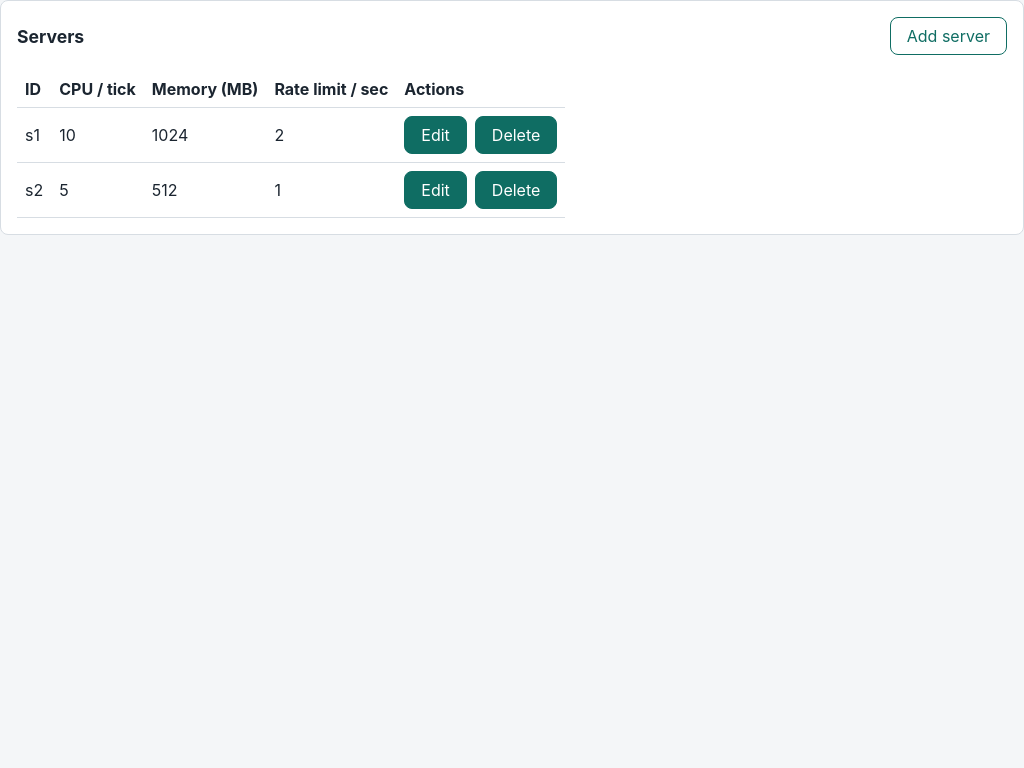
Test: ServerList › normalizes a real FastAPI 422 detail array through client.ts and displays both messages
The image size is (1024, 768).
Expected: the text "s1" is shown, [17, 108, 51, 162]
Click the button "Add server".
click(948, 36)  # box [890, 17, 1007, 55]
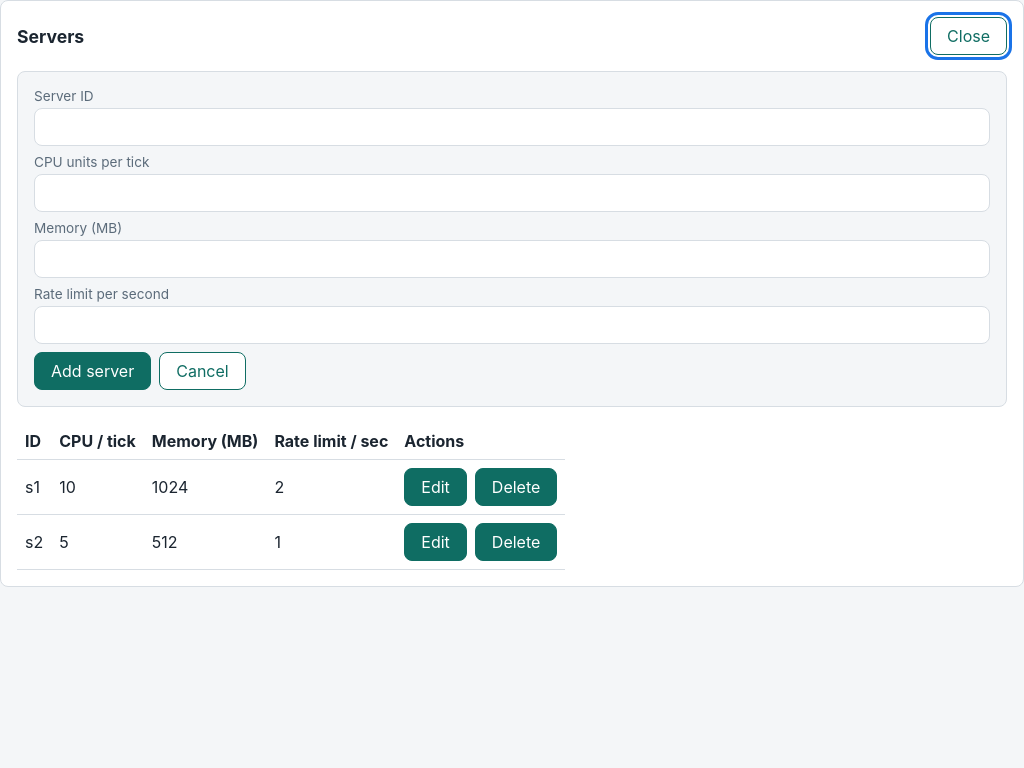
Type "s3" into the field labelled "Server ID".
click(512, 127); type("s3")  # box [34, 108, 990, 146]
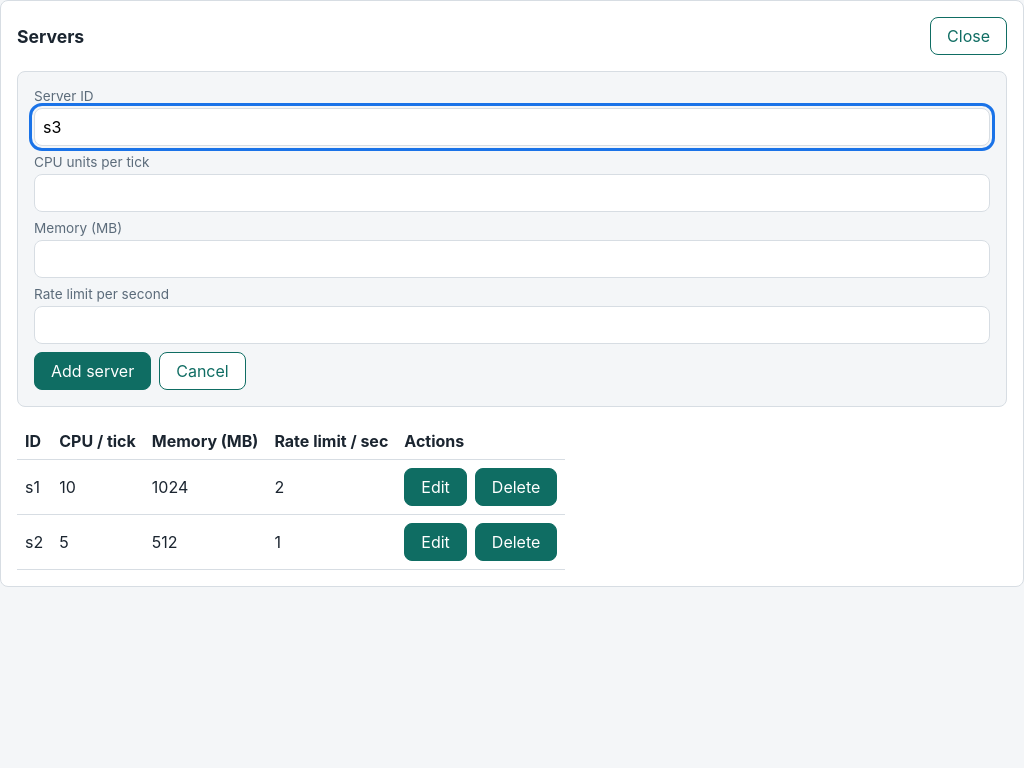
Type "1" into the number field labelled "CPU units per tick".
click(512, 193); type("1")  # box [34, 174, 990, 212]
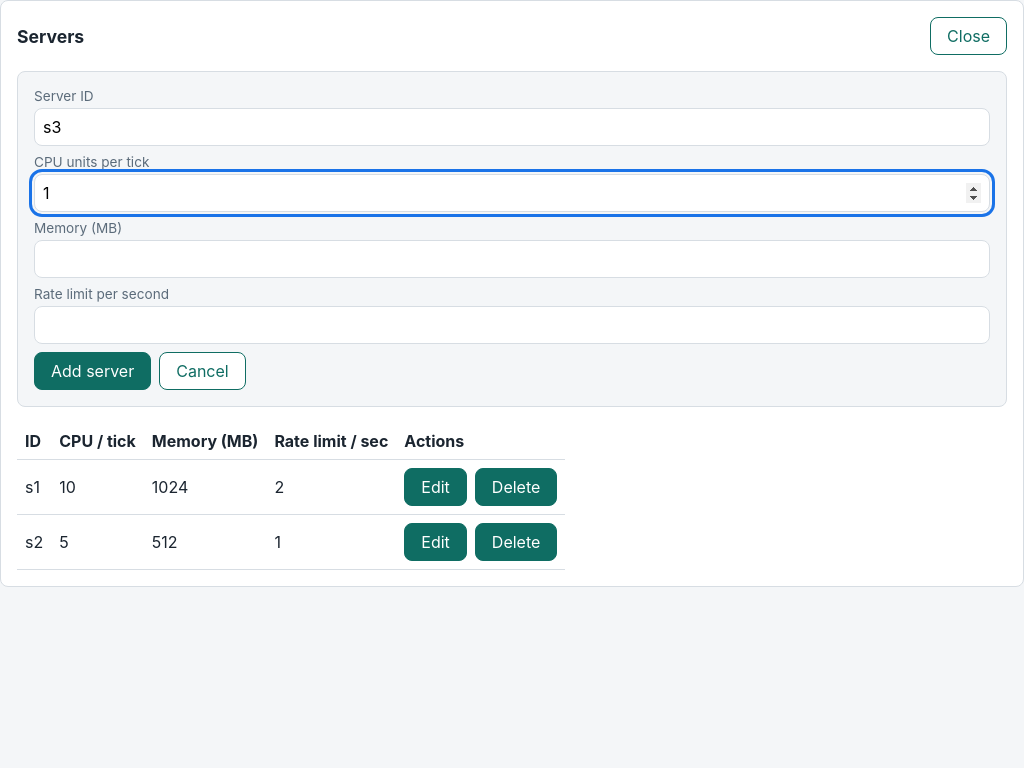
Type "1" into the number field labelled "Memory (MB)".
click(512, 259); type("1")  # box [34, 240, 990, 278]
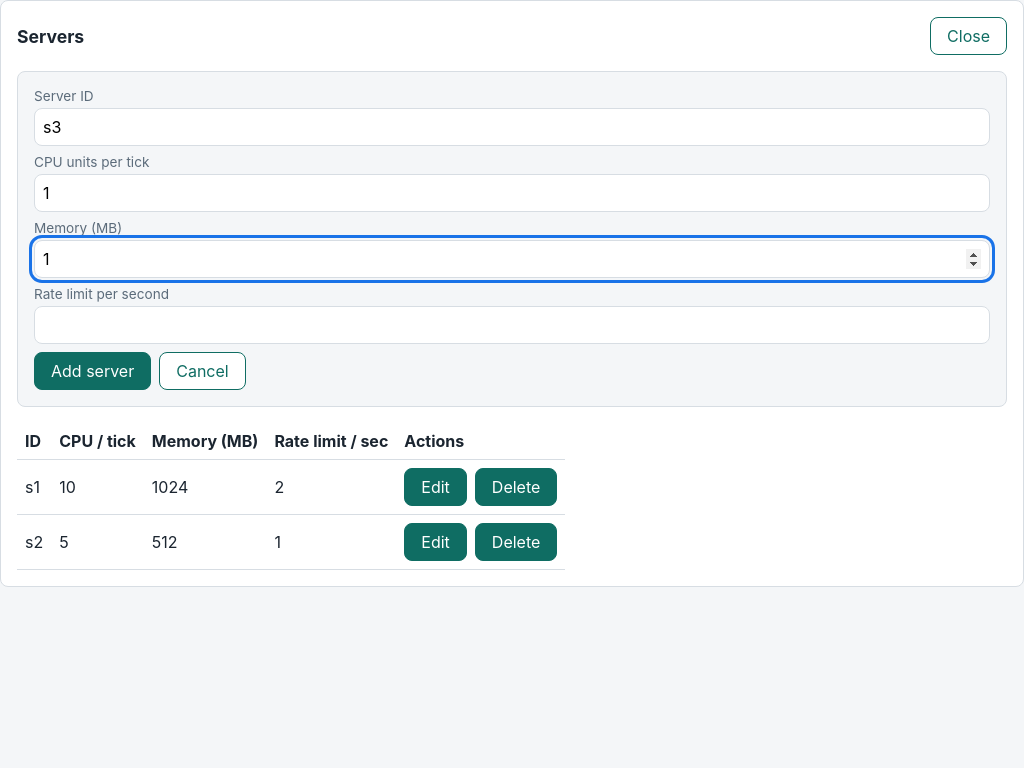
Type "1" into the number field labelled "Rate limit per second".
click(512, 325); type("1")  # box [34, 306, 990, 344]
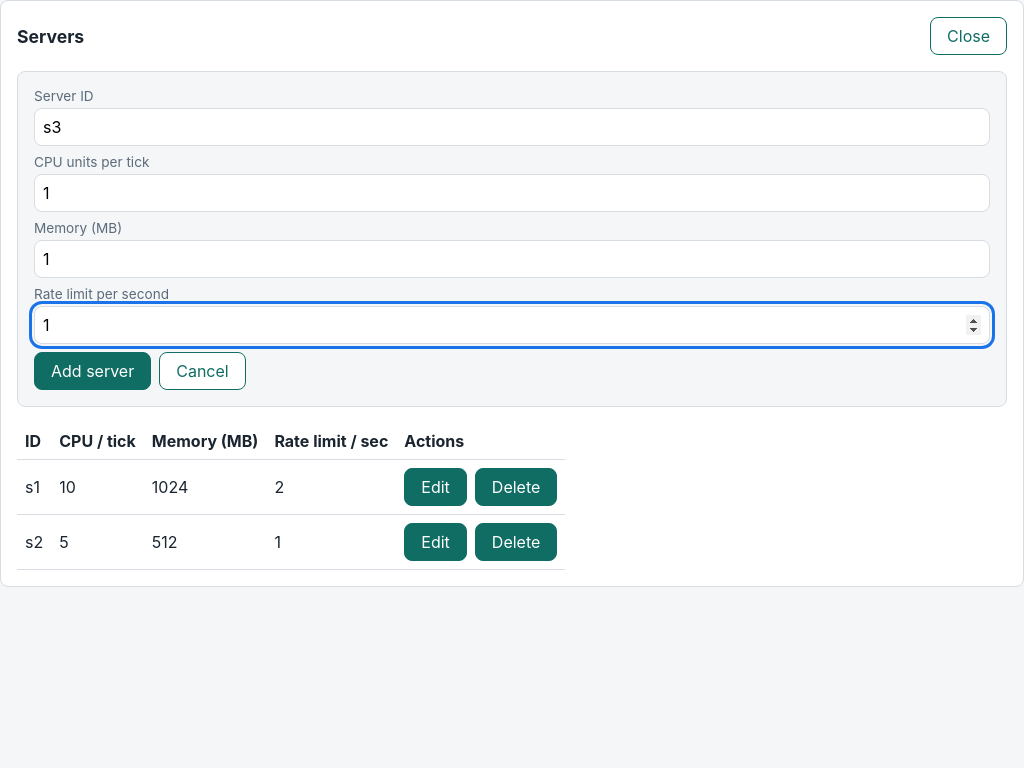
Click the button "Add server".
click(93, 371)  # box [34, 352, 151, 390]
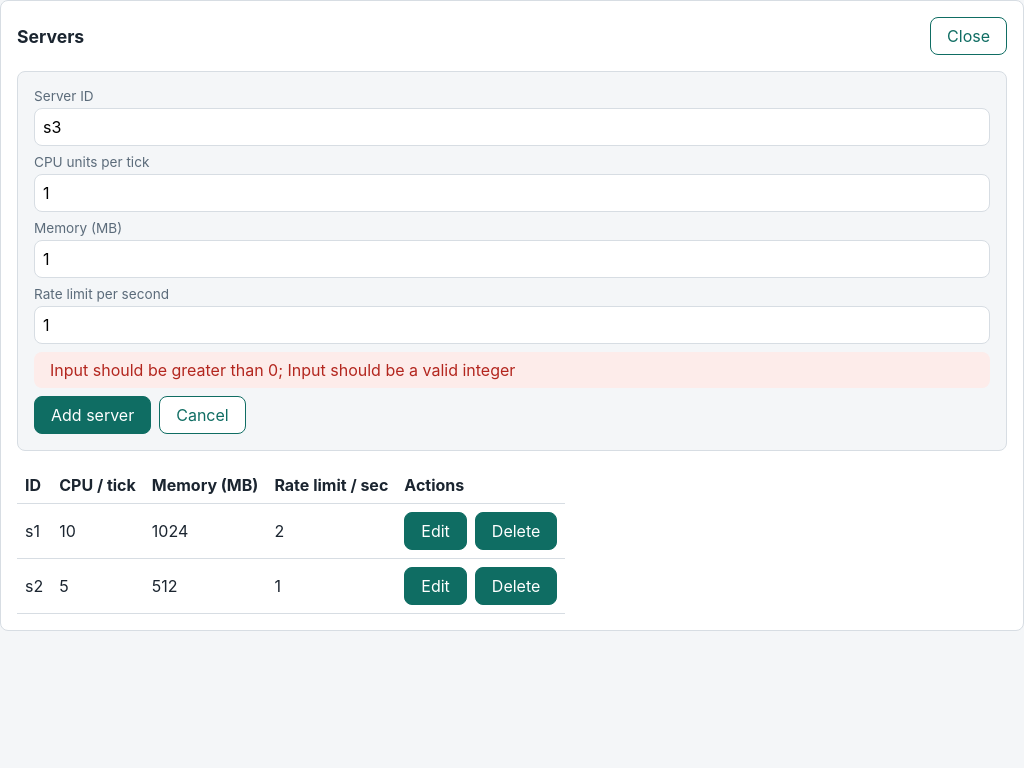
Now the message shows "Input should be greater than 0", box [50, 360, 515, 380]
Now the message shows "Input should be a valid integer", box [50, 360, 515, 380]
